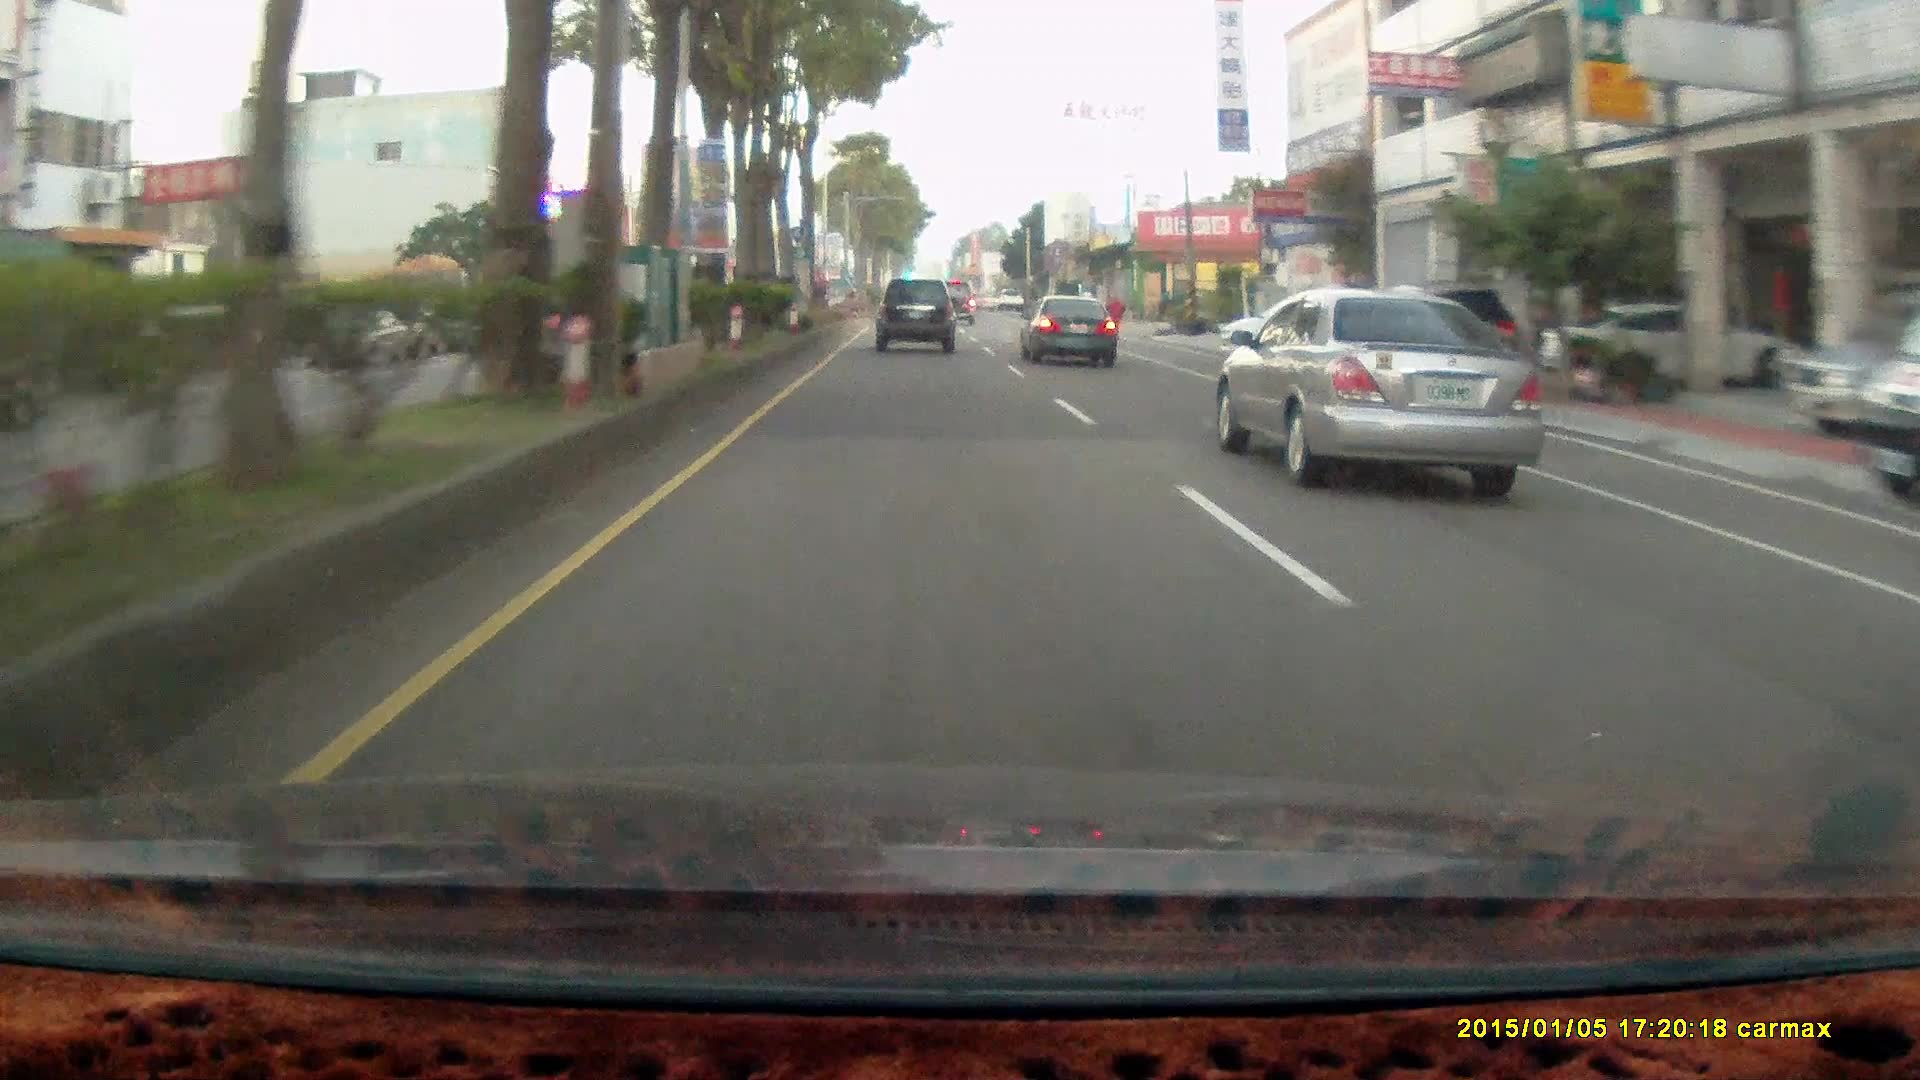pedestrian: (1104, 291, 1124, 335)
vehicle: (1218, 291, 1545, 483), (1532, 305, 1811, 389), (1359, 284, 1546, 402), (1854, 304, 1920, 511), (1019, 293, 1122, 369), (1018, 290, 1116, 365), (874, 277, 959, 357), (874, 278, 955, 353), (934, 279, 977, 324)
